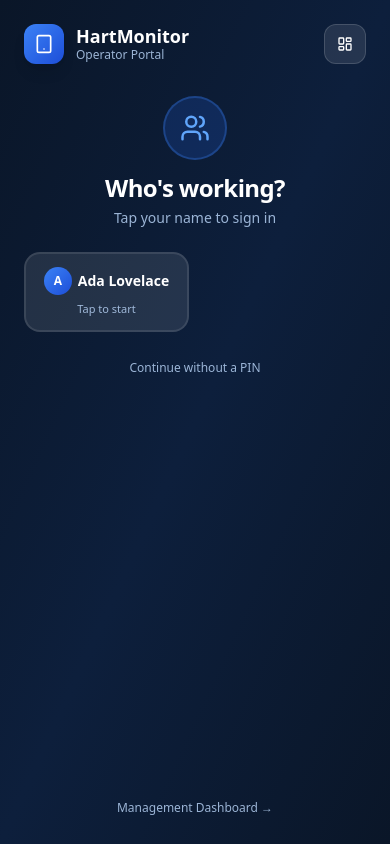
Test case: an interrupted job comes back as ONE row › caps the list and offers the rest, rather than an uncapped pile
The image size is (390, 844).
Click the text "Ada Lovelace" at (124, 281), box [78,271,169,291]
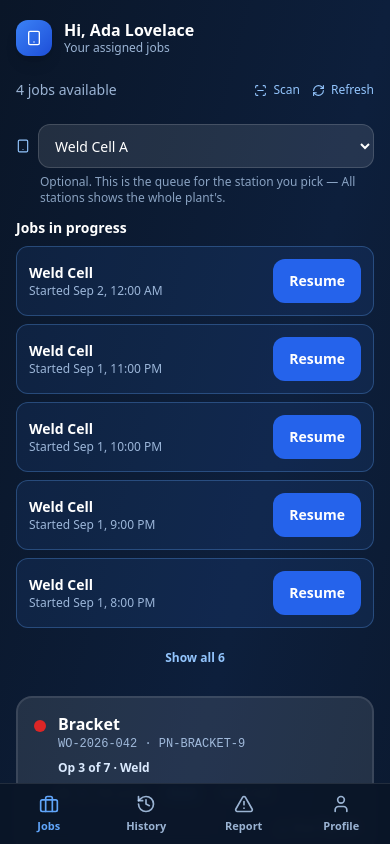
Result: the text "4 jobs available" is shown at [16,80,117,100]
Result: the number of elements with test id "resume-row" is 5 at [16,246,374,316]; [16,324,374,394]; [16,402,374,472]; [16,480,374,550]; [16,558,374,628]
Click the button "Show all 6" at (195, 658), box [16,636,374,680]
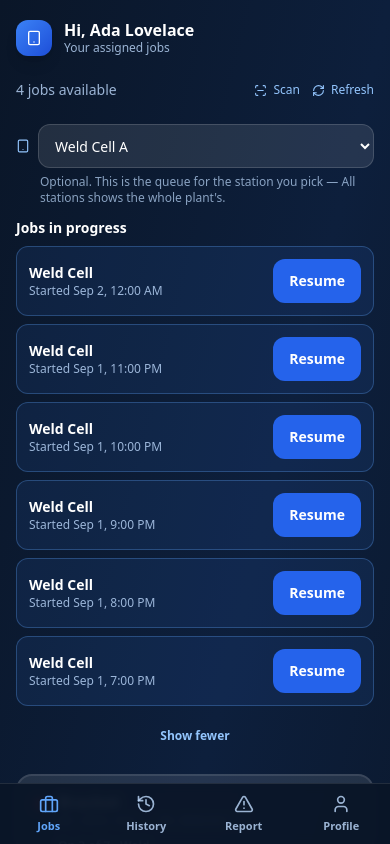
Result: the number of elements with test id "resume-row" is 6 at [16,246,374,316]; [16,324,374,394]; [16,402,374,472]; [16,480,374,550]; [16,558,374,628]; [16,636,374,706]
